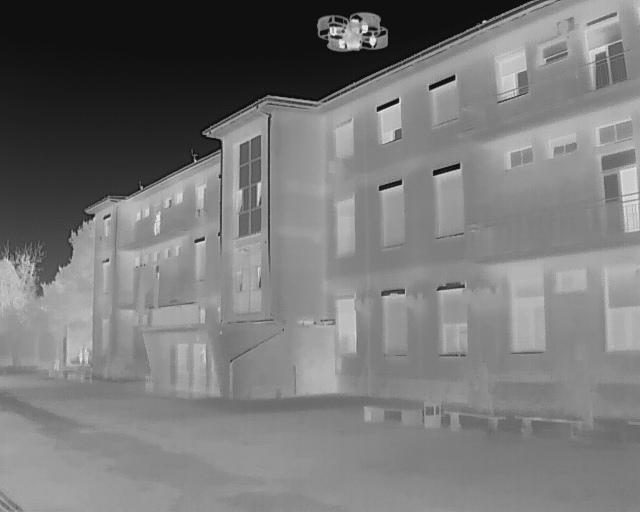drone: (311, 8, 396, 70)
